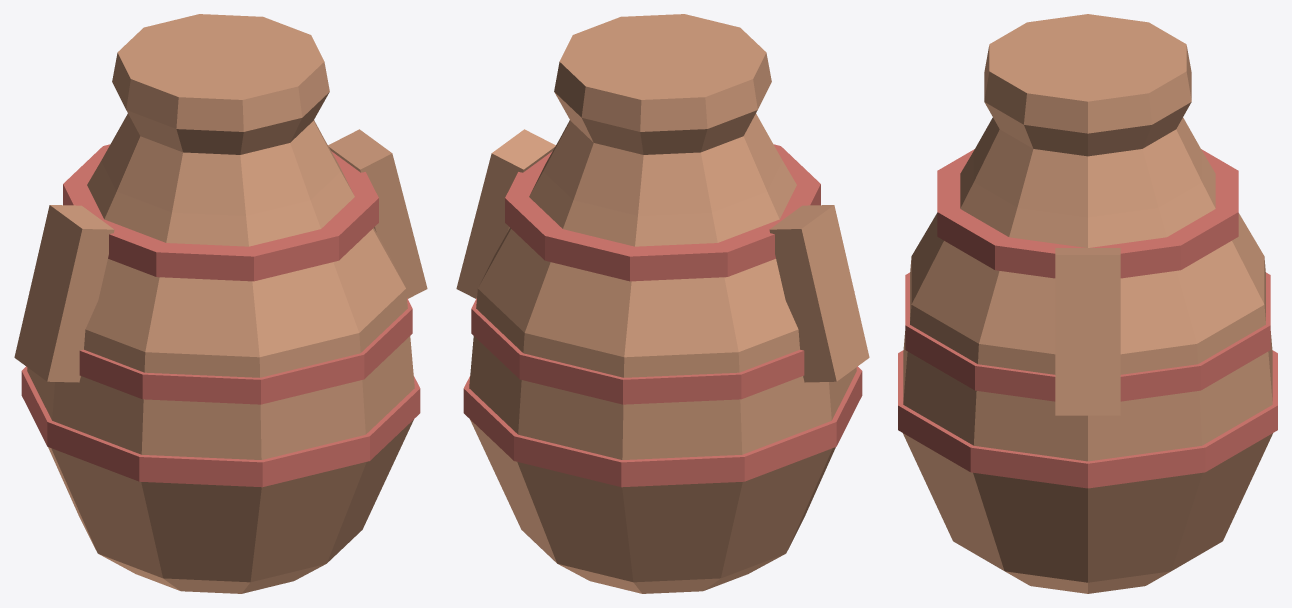
The model's file is andean-terraces-and-stone-village-water-jar-medium-11564331__38261.glb.
3 views of the same model, side by side, from view 1: azimuth 30°, elevation 25°; view 2: azimuth 150°, elevation 25°; view 3: azimuth 270°, elevation 25° (orthographic).
Visible parts, largest first — view 1: water-jar-medium-clay, water-jar-medium-cloth; view 2: water-jar-medium-clay, water-jar-medium-cloth; view 3: water-jar-medium-clay, water-jar-medium-cloth.
Boxes of the visible parts, bbox=[...] form: water-jar-medium-clay: bbox=[14, 14, 427, 593]; water-jar-medium-cloth: bbox=[21, 144, 420, 487]; water-jar-medium-clay: bbox=[456, 14, 869, 593]; water-jar-medium-cloth: bbox=[463, 144, 862, 487]; water-jar-medium-clay: bbox=[903, 14, 1272, 593]; water-jar-medium-cloth: bbox=[898, 149, 1277, 488].
Size of the model in its own units: 0.4973 by 0.62 by 0.4316.
